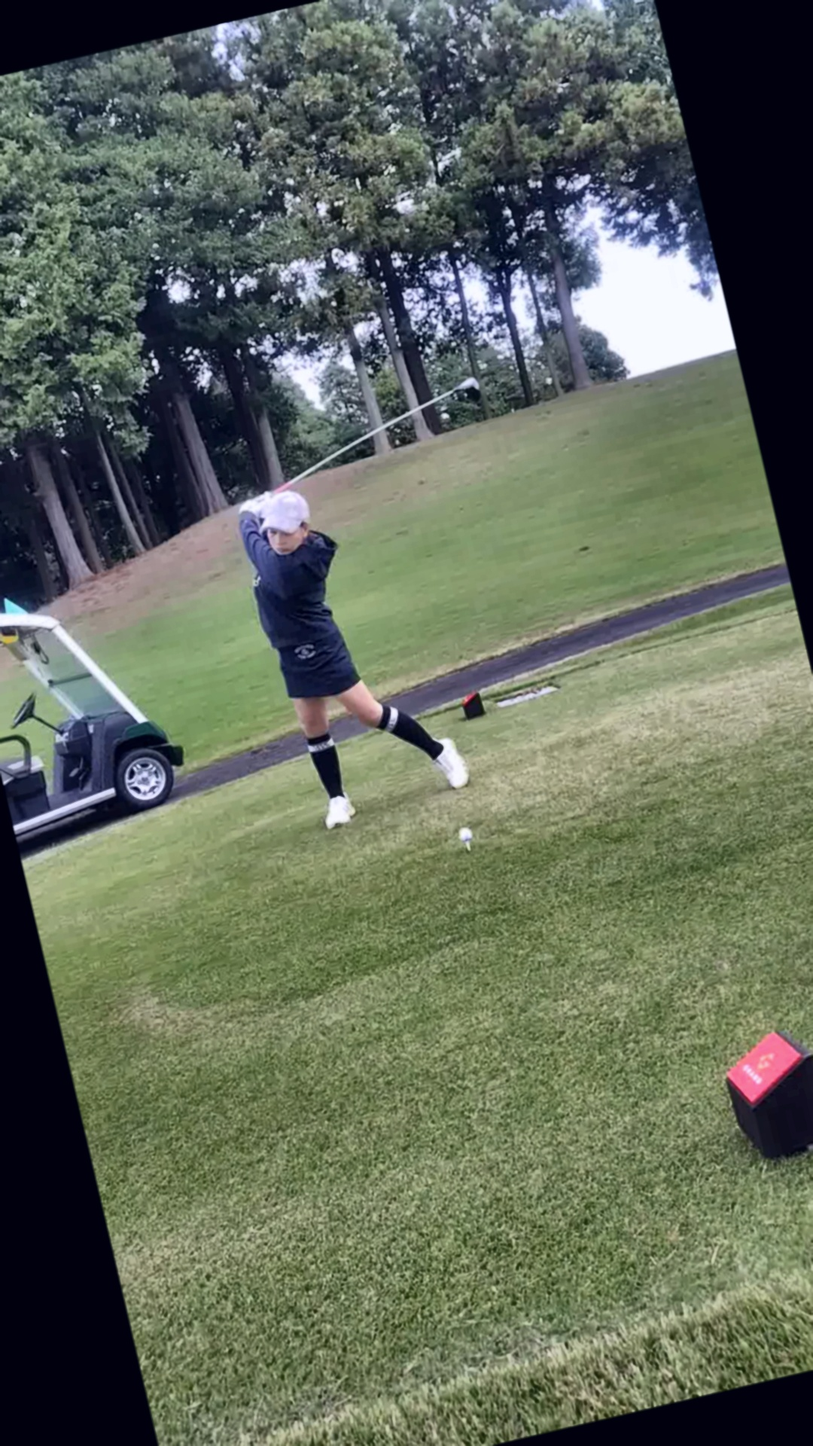clubhead: (410, 309, 563, 487)
